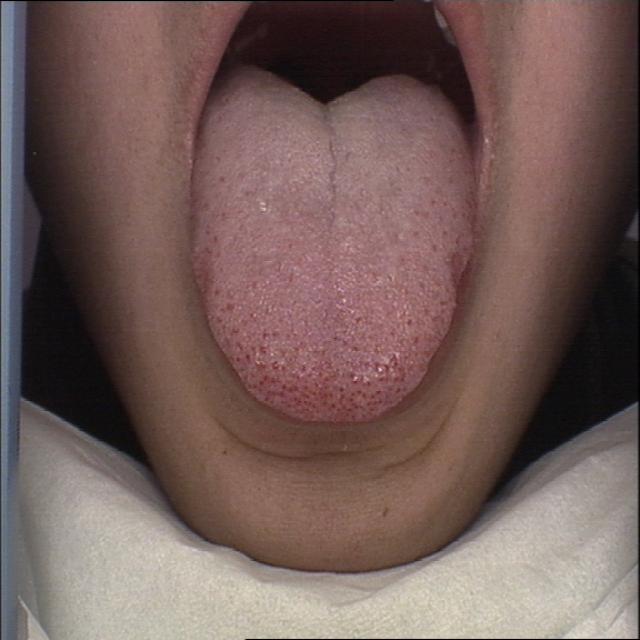tongue: (186, 49, 481, 431)
